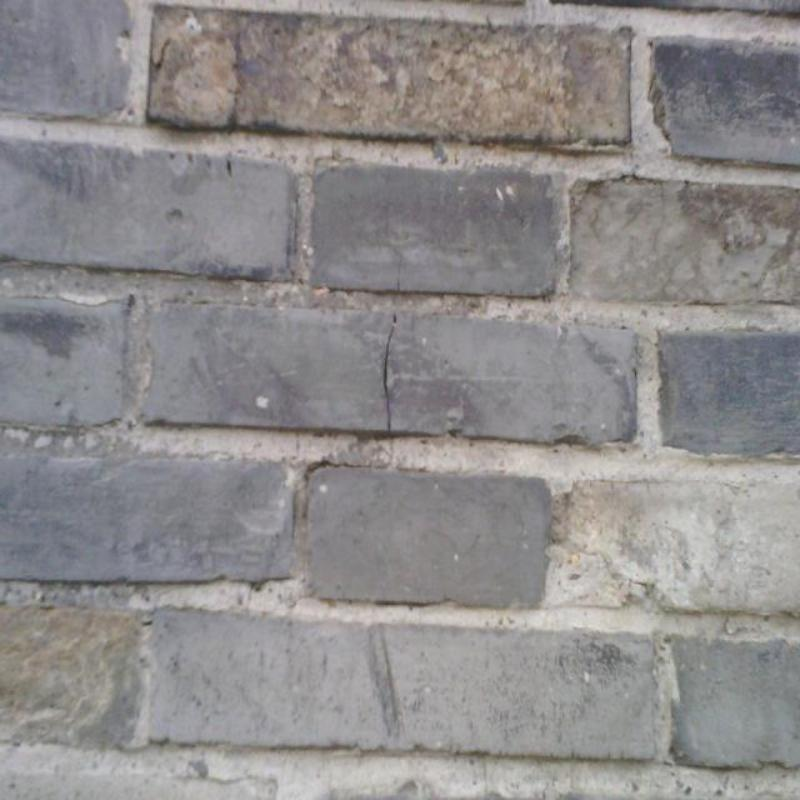crack: (292, 315, 397, 540)
